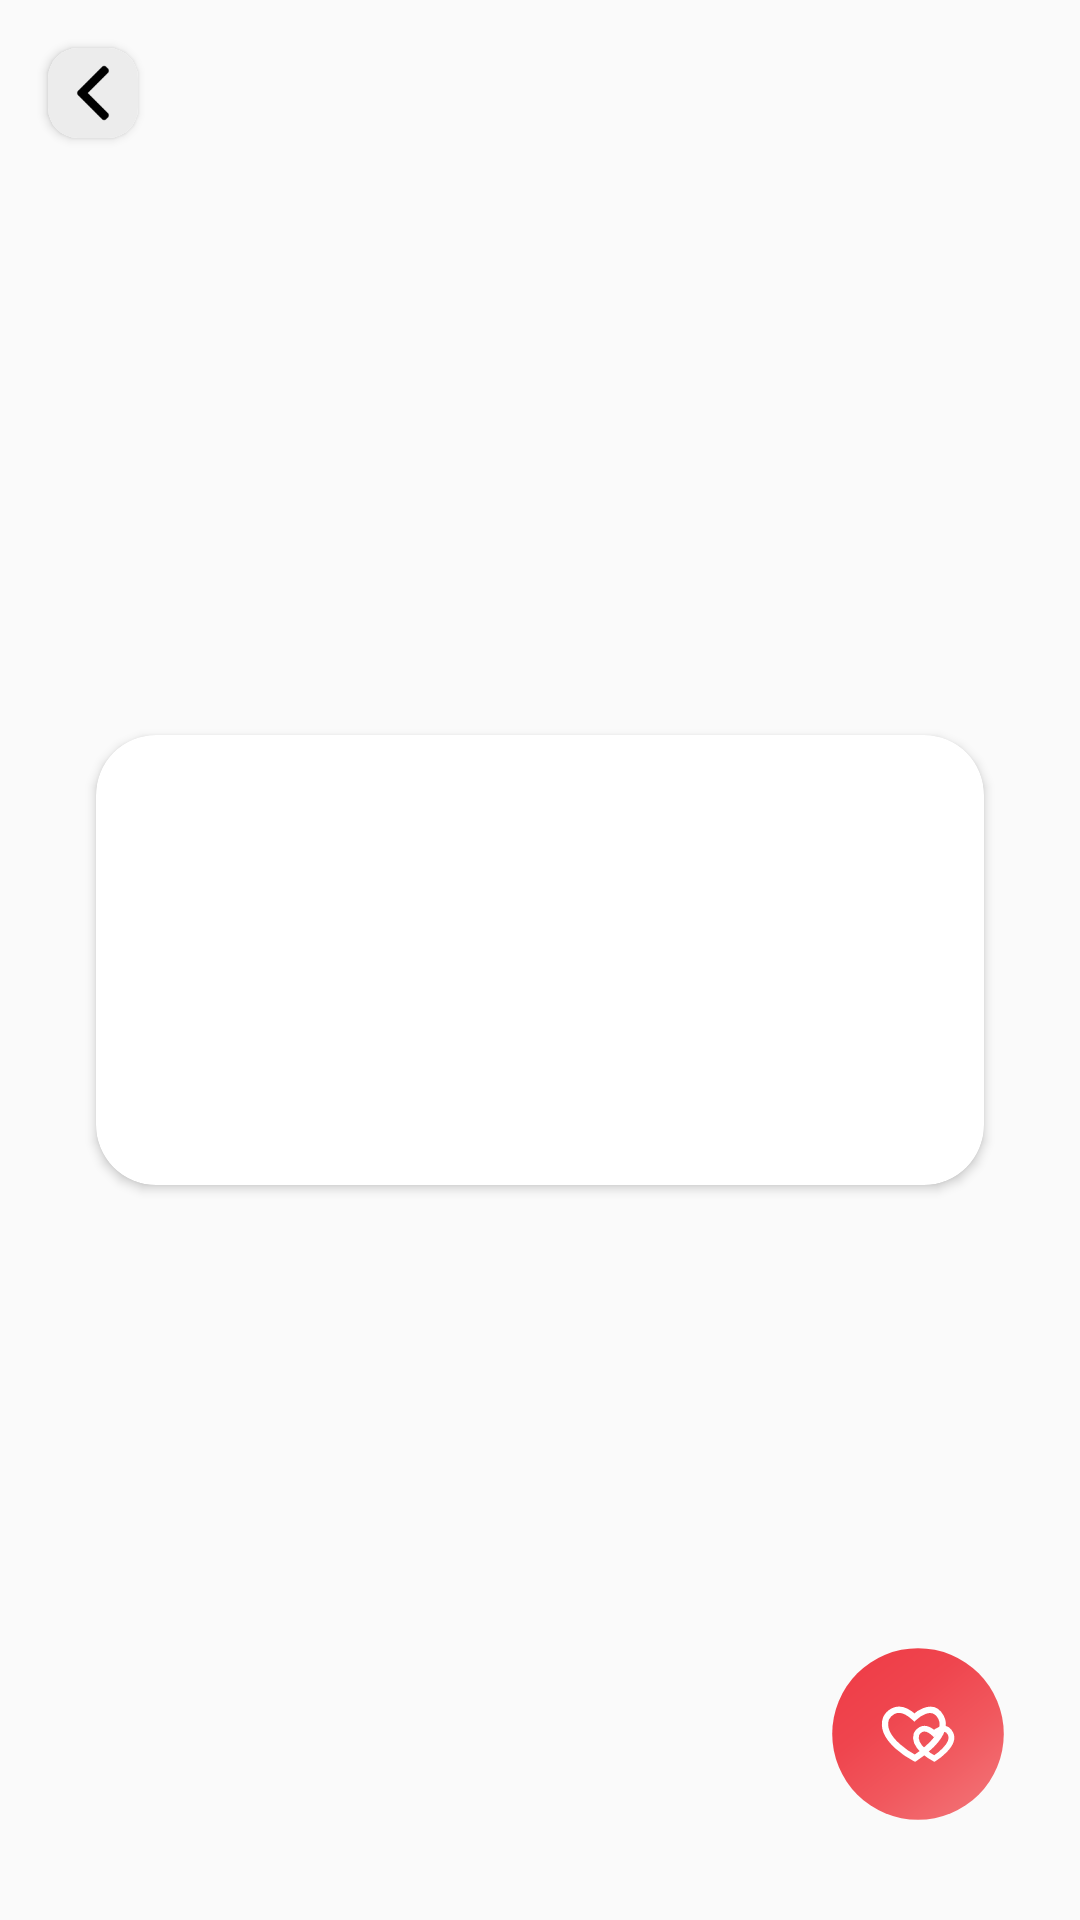

Locate icon controls on the screen. Image size 1080w x 1920h, boxes as (x1, y1, x2, y2).
back: (77, 65, 109, 121)
saved: (832, 1648, 1004, 1820)
